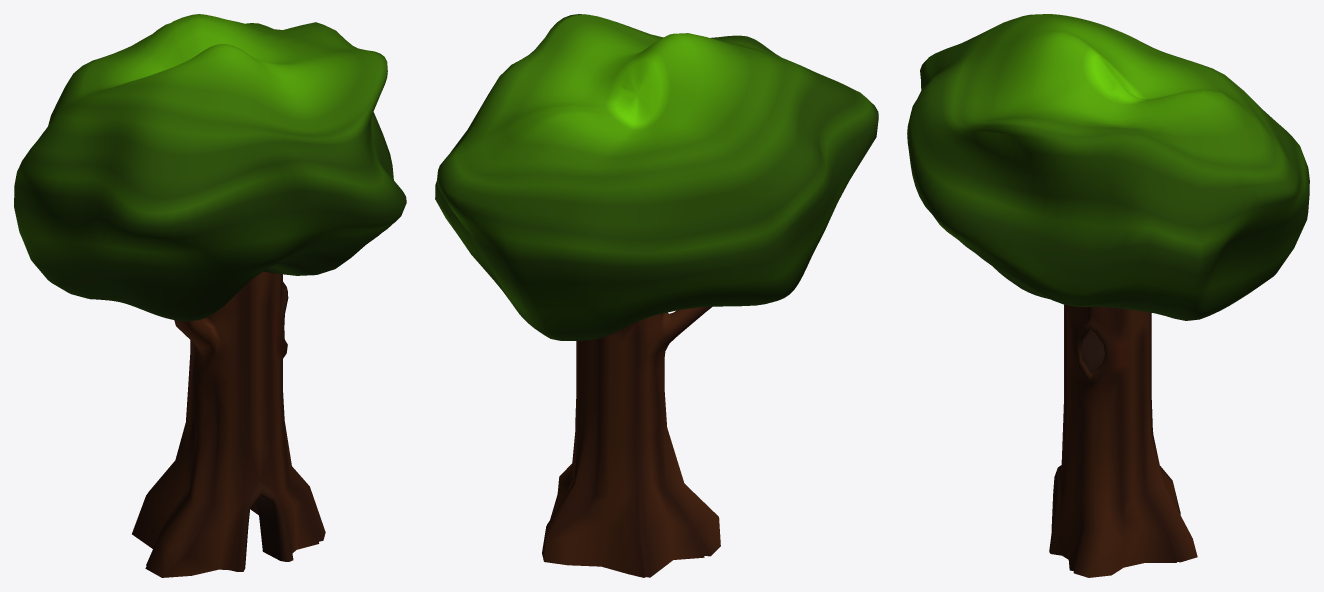
Rendered from Owl Treehouse.fbx.
3 views of the same model, side by side, from view 1: azimuth 30°, elevation 25°; view 2: azimuth 150°, elevation 25°; view 3: azimuth 270°, elevation 25° (orthographic). The views are drawn at different scales.
Visible parts, largest first — view 1: polySurface125; view 2: polySurface125; view 3: polySurface125.
Boxes of the visible parts, box(x1,y1,x2,y2) form: polySurface125: box(14, 14, 406, 577); polySurface125: box(435, 14, 878, 577); polySurface125: box(907, 14, 1309, 577).
Bounding box in the file's own units: 17.65 × 24.17 × 18.
